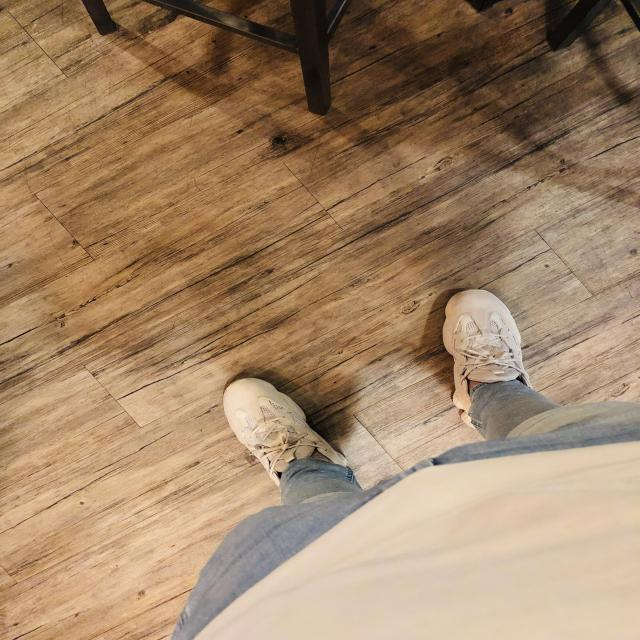shoe: (436, 235, 627, 470), (170, 289, 331, 528)
